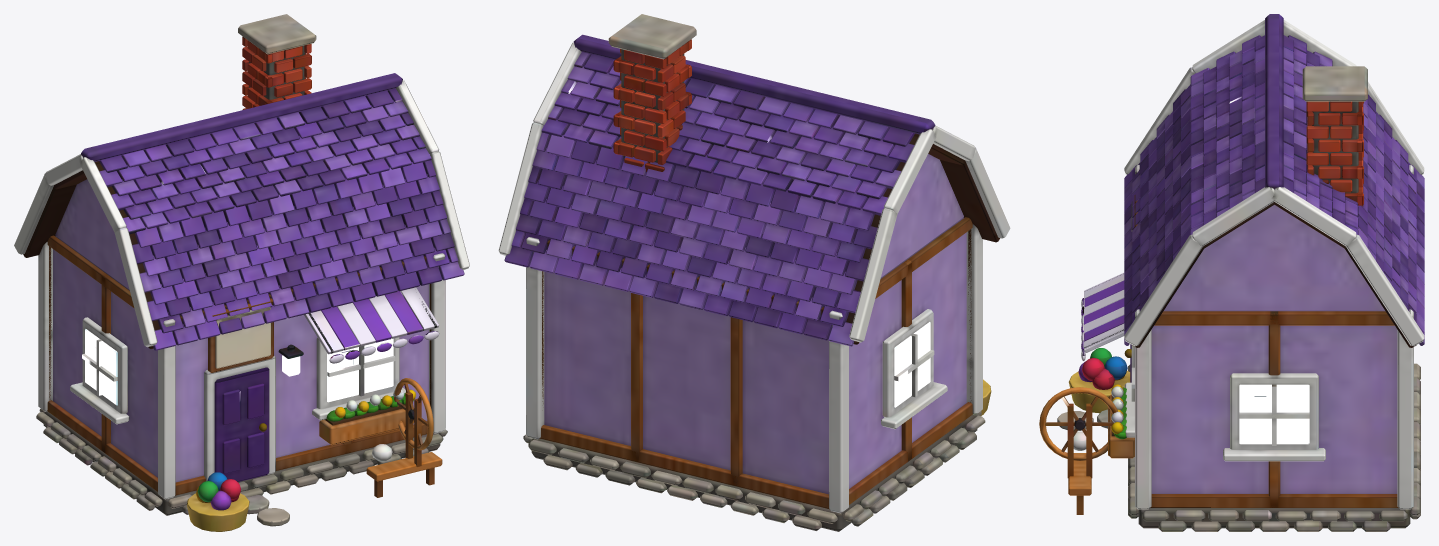
File: loom.glb
3 views of the same model, side by side, from view 1: azimuth 30°, elevation 25°; view 2: azimuth 150°, elevation 25°; view 3: azimuth 270°, elevation 25° (orthographic). The views are drawn at different scales.
Parts seen in each view (by area): view 1: loom, spinX_wheel; view 2: loom; view 3: loom, spinX_wheel.
Part boxes in pixels (<box>): loom: <box>14,14,469,531</box>; spinX_wheel: <box>394,378,433,450</box>; loom: <box>498,14,1010,531</box>; loom: <box>1057,14,1424,531</box>; spinX_wheel: <box>1039,387,1117,460</box>.
Size of the model in its own units: 1.74 by 1.95 by 1.65.
Materials: 1 (1 with a texture image).
